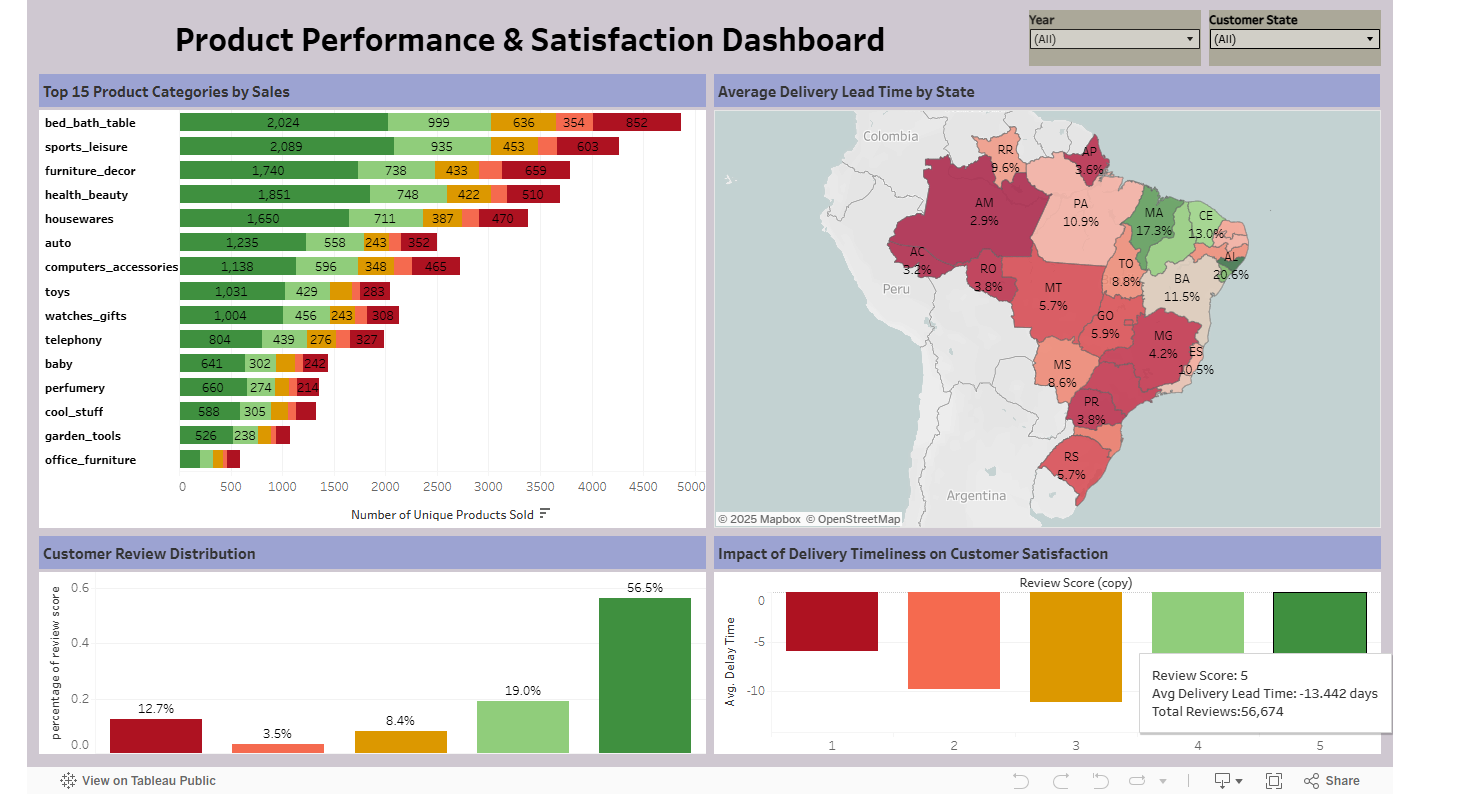

The page's visual inventory and layout, read from the dashboard file:
{"tool":"tableau","page":{"name":"Product Performance & Satisfaction Dashboard","canvas":[1000,1000],"units":"permille","ordinal":1},"visuals":[{"type":"text","box":[5.9,10.4,724.7,83.3]},{"type":"filter","title":"Customer Review Distribution","param":"[federated.0u8zcs504tbxkr1bsr9un1r70h27].[none:Calculation_1286622118837325824:o","box":[730.6,10.4,131.8,83.3]},{"type":"filter","title":"Average Delivery Lead Time by State","param":"[federated.0u8zcs504tbxkr1bsr9un1r70h27].[none:customer_state:nk]","box":[862.4,10.4,131.8,83.3]},{"type":"worksheet","title":"Top 15 Product Categories by Sales","mark":"Automatic","rows":["product_category_name_english"],"cols":["product_id"],"box":[5.9,93.8,494.1,601.5]},{"type":"worksheet","title":"Average Delivery Lead Time by State","mark":"Automatic","box":[500,93.8,494.2,601.6]},{"type":"worksheet","title":"Customer Review Distribution","mark":"Automatic","rows":["Calculation_1135188649783812100"],"cols":["Review Score (copy)_1135188649782751234"],"box":[5.9,695.3,494.1,294.3]},{"type":"worksheet","title":"Impact of Delivery Timeliness on Customer Satisfaction","mark":"Automatic","rows":["Delay Time"],"cols":["Review Score (copy)_1135188649782751234"],"box":[500,695.3,494.2,294.3]}]}

Visuals, with their boxes on the dashboard's canvas, which has no fixed pixel size, in thousandths of its width and height (x1, y1, x2, y2). These are canvas units, not pixel positions in the 1467x807 screenshot, which may show the page scaled, cropped or inside an application window:
text: 6:10:731:94
"Customer Review Distribution" filter: 731:10:862:94
"Average Delivery Lead Time by State" filter: 862:10:994:94
"Top 15 Product Categories by Sales" worksheet: 6:94:500:695
"Average Delivery Lead Time by State" worksheet: 500:94:994:695
"Customer Review Distribution" worksheet: 6:695:500:990
"Impact of Delivery Timeliness on Customer Satisfaction" worksheet: 500:695:994:990
